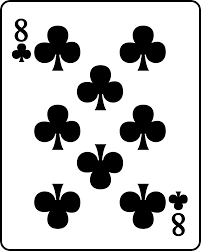eigth of clubs: (3, 3, 198, 251)
